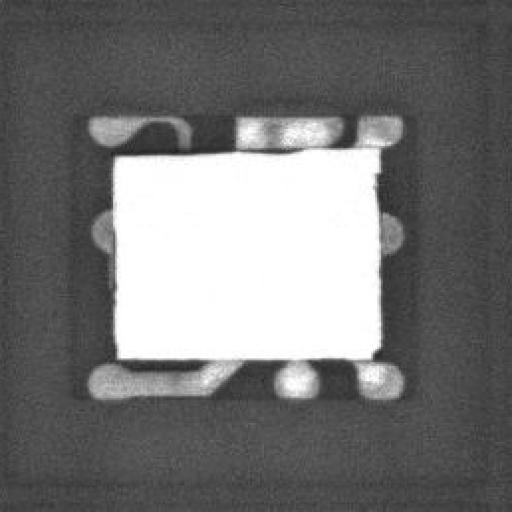DIE_BROKEN: (111, 146, 308, 156), (371, 169, 381, 210), (369, 344, 381, 360)
